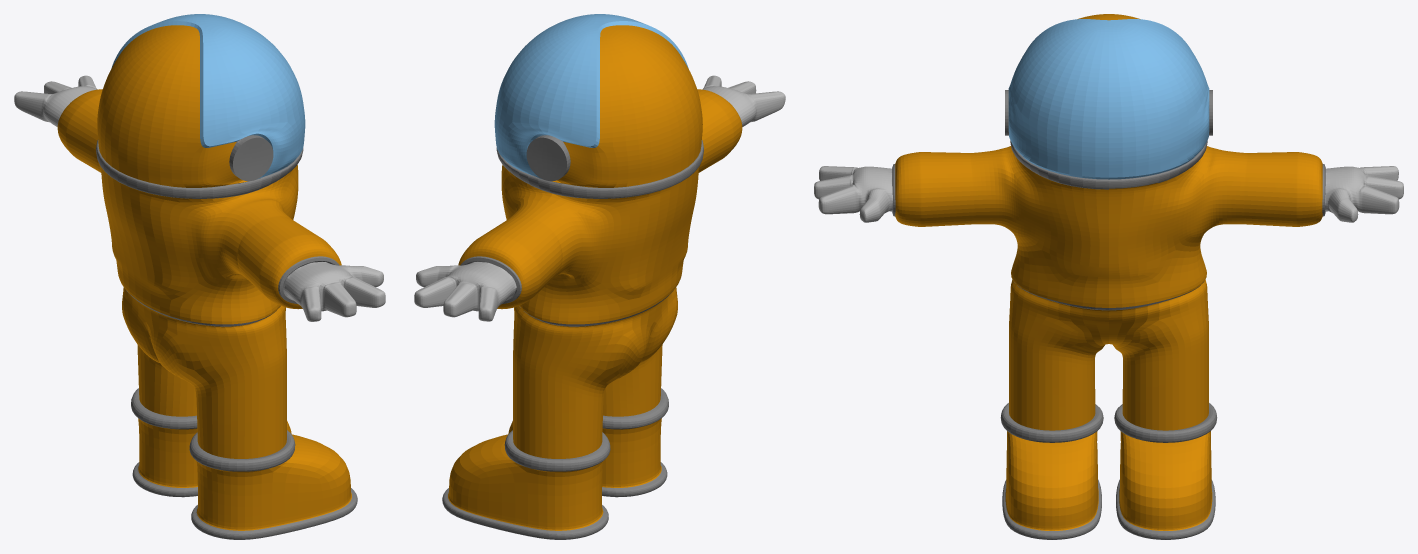
The model's file is Astronaut_Master.fbx.
The picture shows the model from 3 angles, left to right: view 1: azimuth 30°, elevation 25°; view 2: azimuth 150°, elevation 25°; view 3: azimuth 270°, elevation 25°; orthographic projection. The views are drawn at different scales.
Visible parts, largest first — view 1: Cylinder; view 2: Cylinder; view 3: Cylinder.
Boxes of the visible parts, x1,y1,x2,y2 form: Cylinder: [14, 14, 385, 539]; Cylinder: [414, 14, 785, 539]; Cylinder: [814, 14, 1403, 539].
Bounding box in the file's own units: 201 × 431 × 498.
